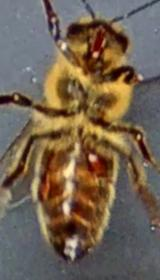varroa_mite: (74, 140, 114, 191), (30, 168, 56, 206)
